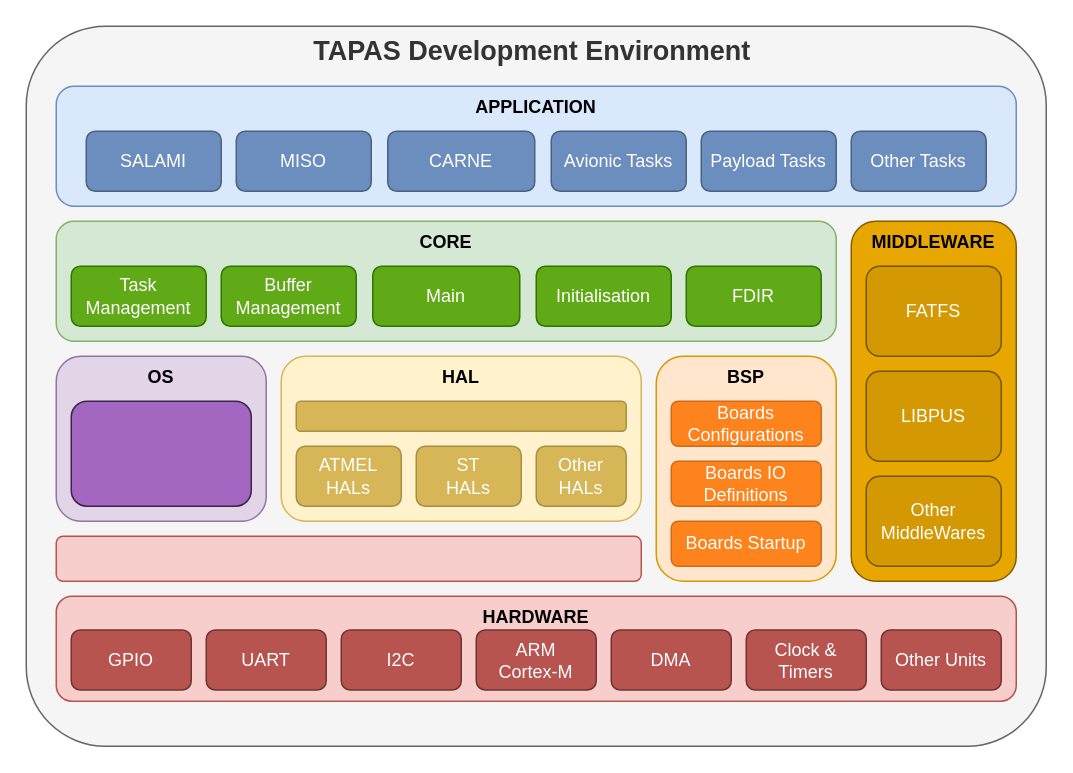
The diagram is 1073 pixels wide and 773 high, and some of its shapes have lost their labels. Each missing label, with the centre of its shape:
"CMSIS" goes at (x=348, y=558).
"FreeRTOS" goes at (x=160, y=453).
"TOLOSAT HAL" goes at (x=460, y=415).
